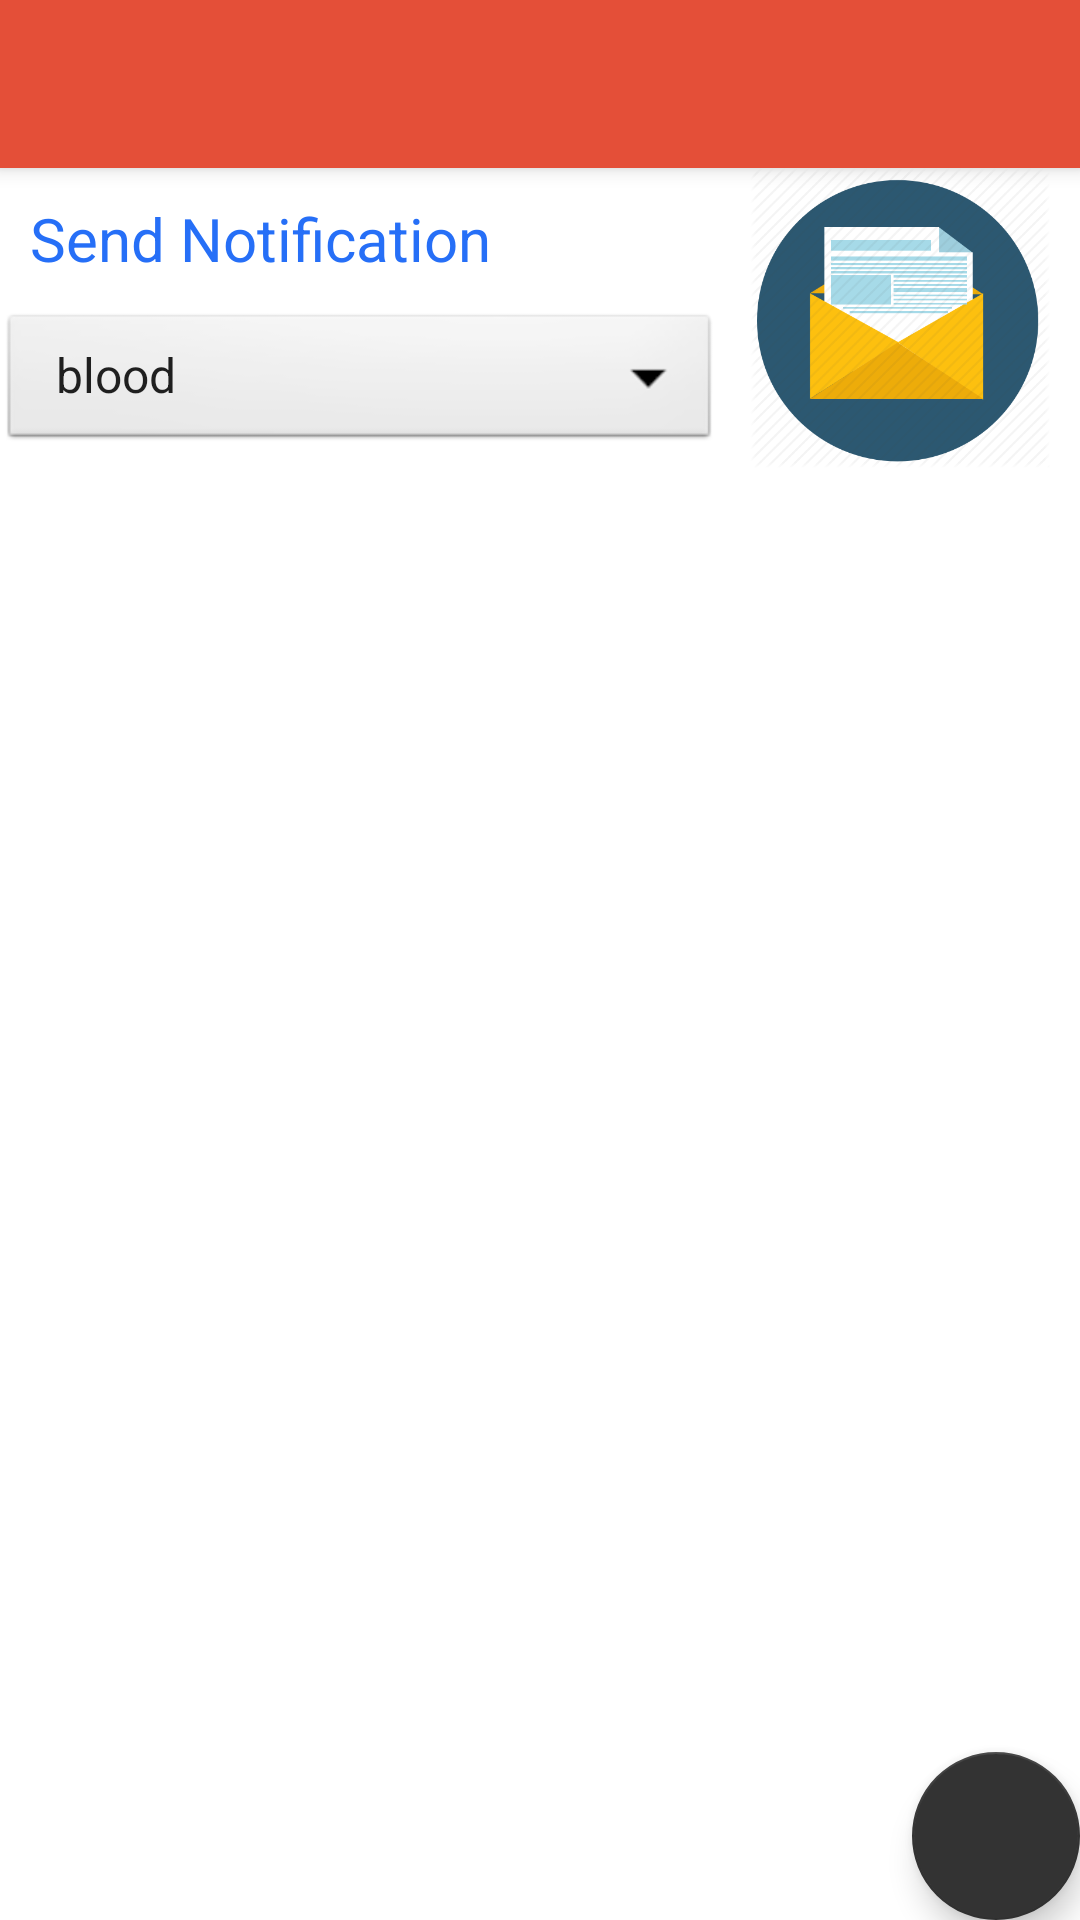

Named icons in this screenshot (1080w x 1920h) and their bounding boxes, region(x1, y1, x2, y2):
sendreport: region(757, 180, 1039, 462)
